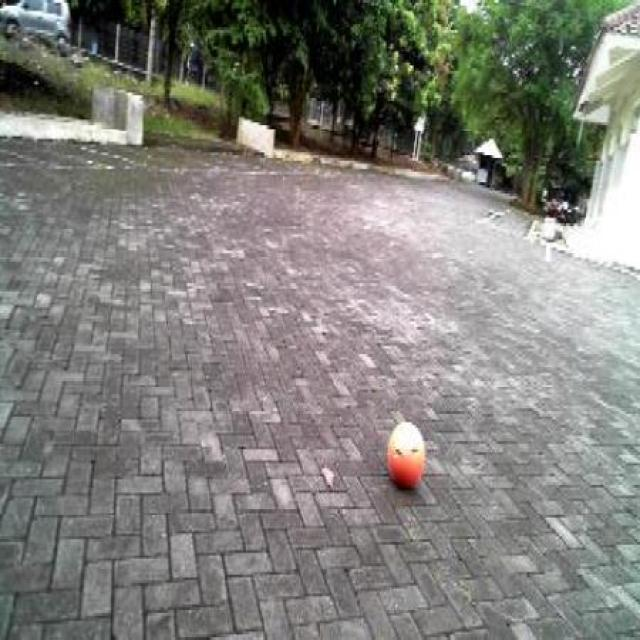buoy: (382, 406, 430, 496)
